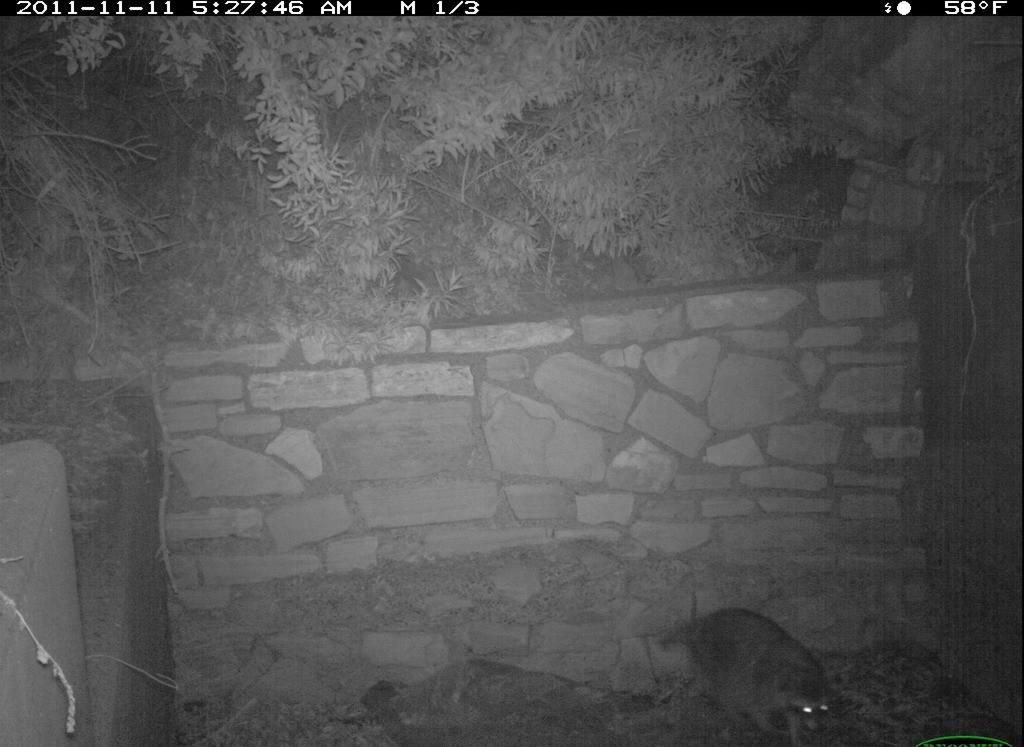raccoon: (656, 602, 853, 745)
